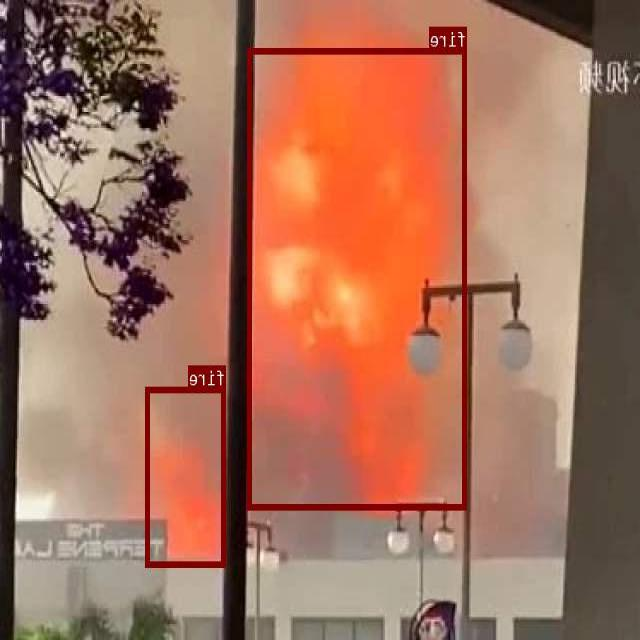fire: (248, 48, 468, 508), (147, 385, 226, 566)
